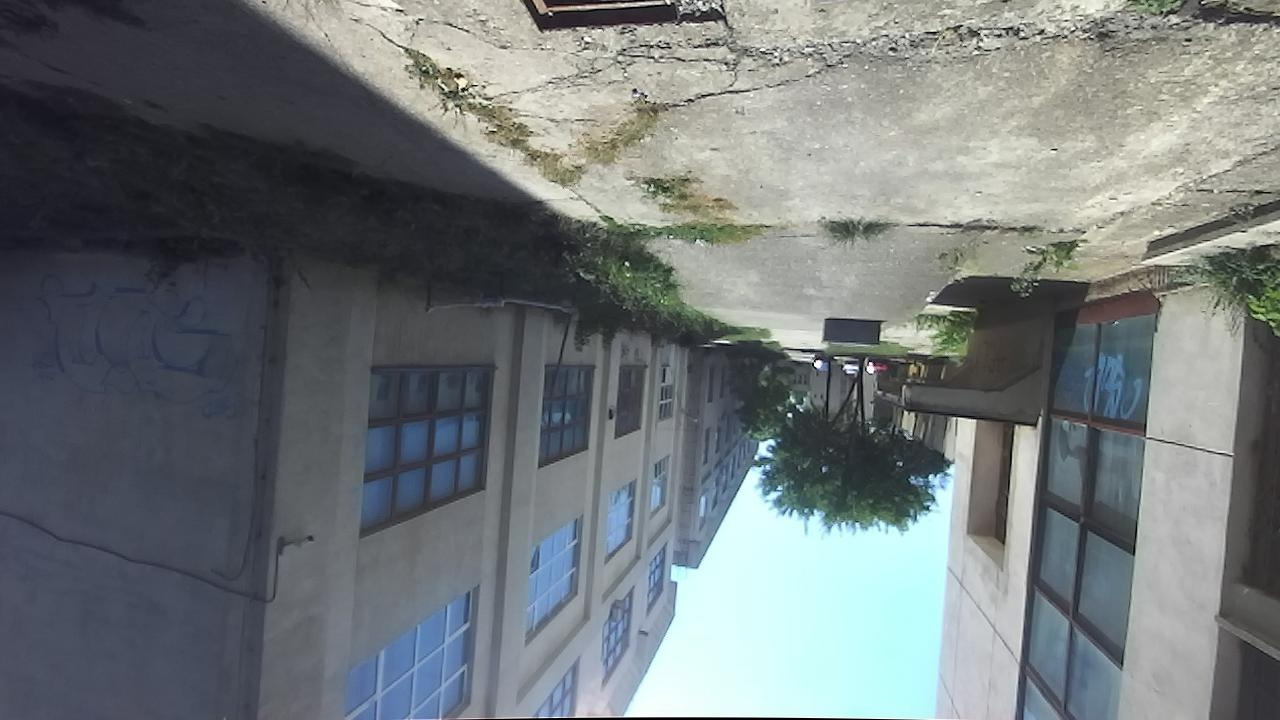drain: (510, 0, 687, 36)
